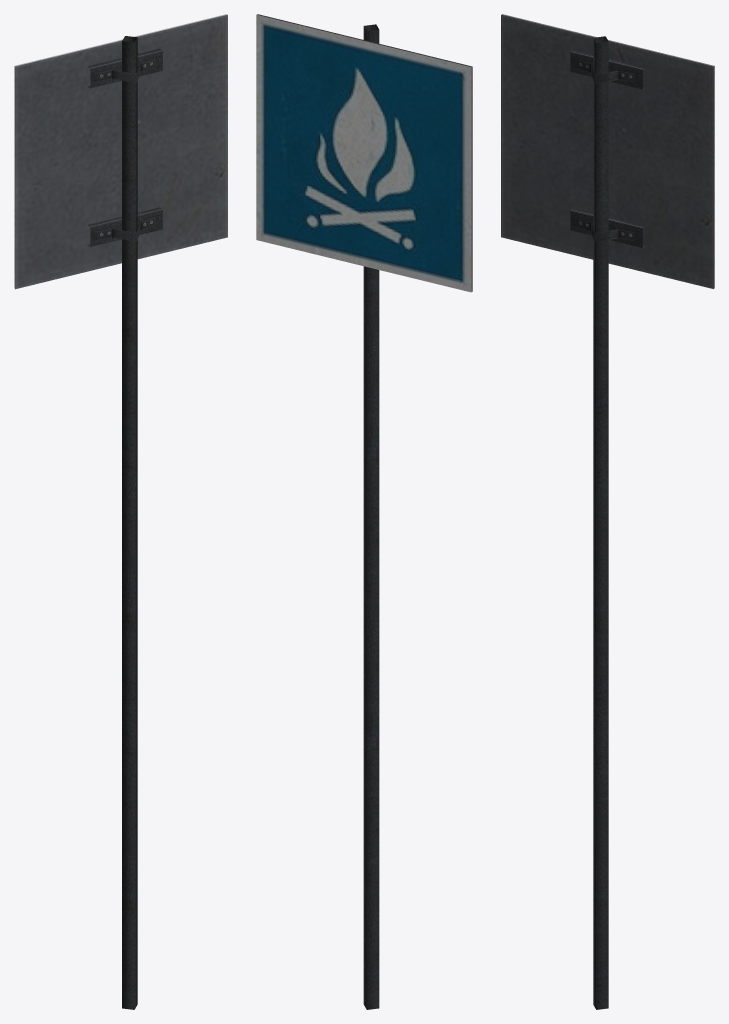
The model's file is Campfire.glb.
The picture shows the model from 3 angles, left to right: view 1: azimuth 30°, elevation 25°; view 2: azimuth 150°, elevation 25°; view 3: azimuth 330°, elevation 25°; orthographic projection.
Visible parts, largest first — view 1: Campfire__LOD1; view 2: Campfire__LOD1; view 3: Campfire__LOD1.
Part boxes in pixels (left/top/right/bottom): Campfire__LOD1: left=14, top=14, right=227, bottom=1009; Campfire__LOD1: left=256, top=14, right=472, bottom=1009; Campfire__LOD1: left=501, top=14, right=714, bottom=1009.
Bounding box in the file's own units: 0.6891 × 2.99 × 0.084.
1 material, 1 textured.
